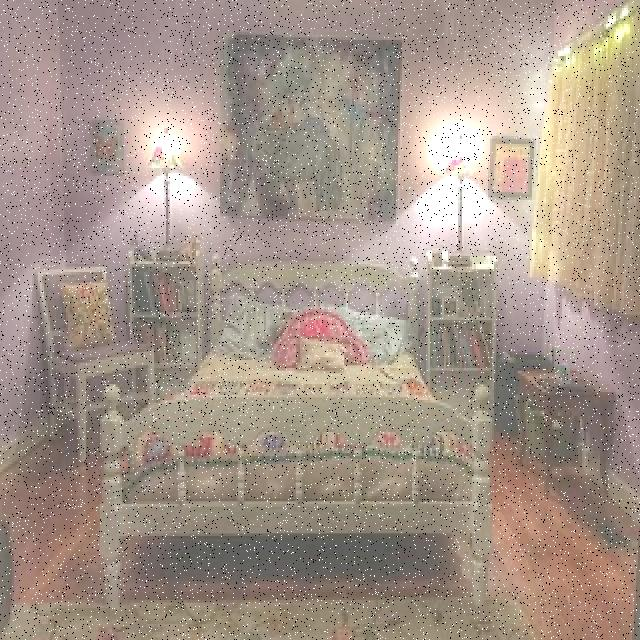bed: (119, 278, 476, 518)
